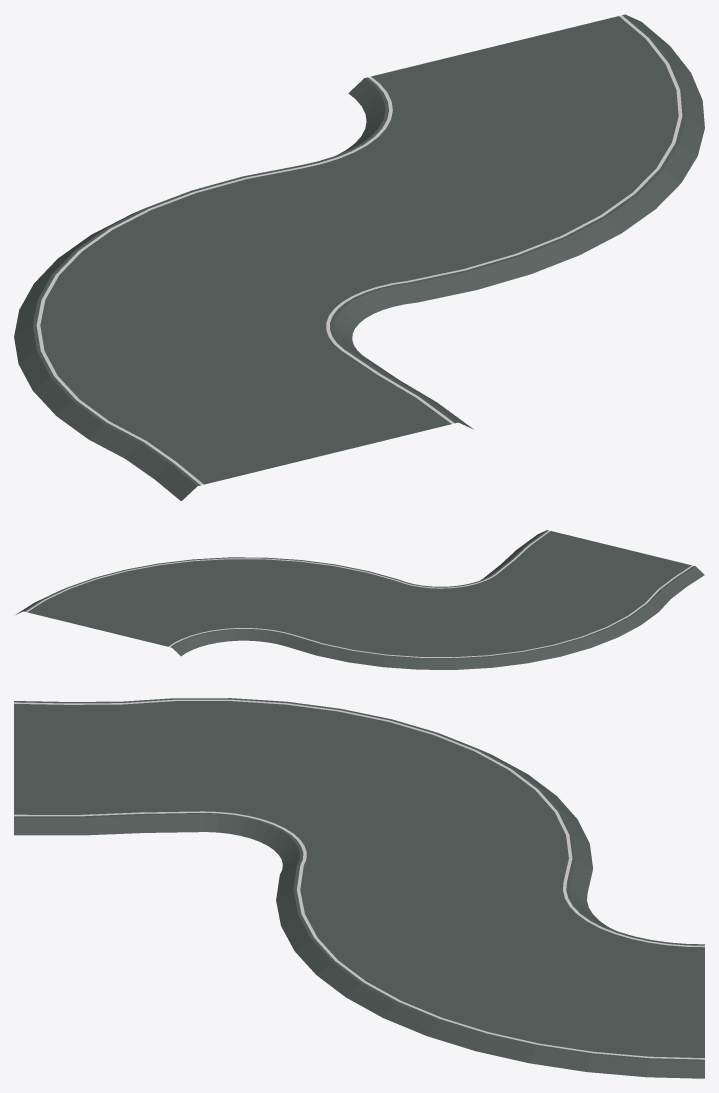
The model's file is Chicane.fbx.
The picture shows the model from 3 angles, top to bottom: view 1: azimuth 30°, elevation 25°; view 2: azimuth 150°, elevation 25°; view 3: azimuth 270°, elevation 25°; orthographic projection. The views are drawn at different scales.
Parts seen in each view (by area): view 1: Road; view 2: Road; view 3: Road.
Boxes of the visible parts, box(x1,y1,x2,y2) form: Road: box(14, 14, 704, 501); Road: box(15, 530, 704, 669); Road: box(14, 698, 704, 1078).
Size of the model in its own units: 77.57 by 1 by 60.
